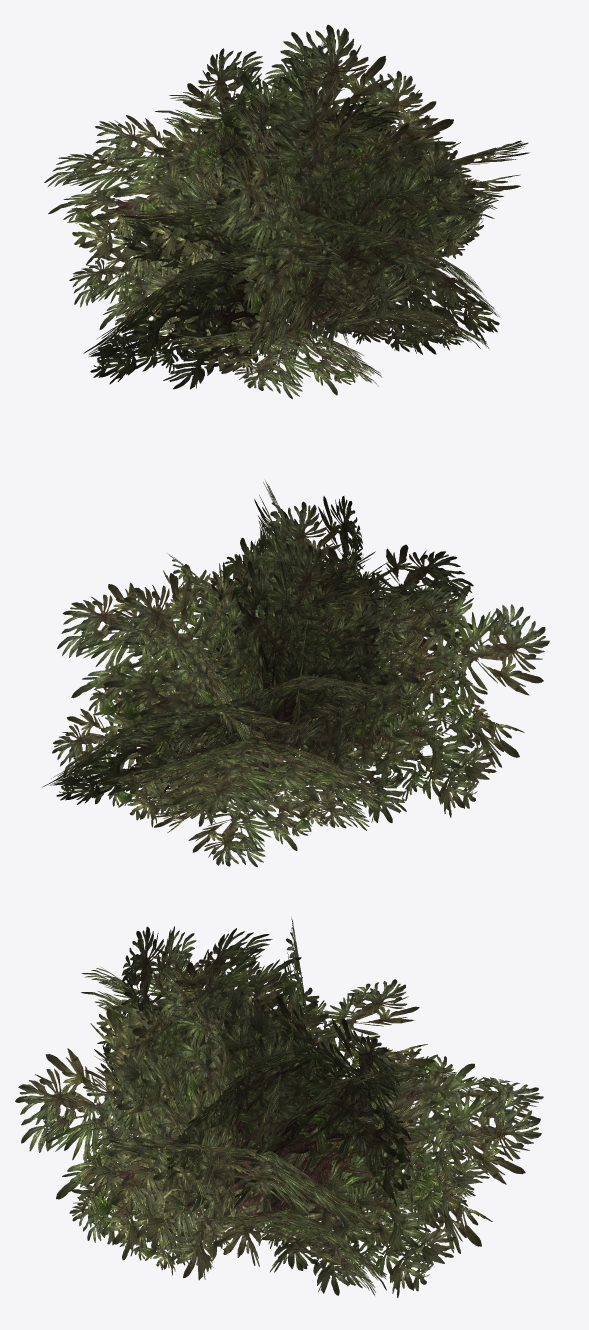
Rendered from Bush_05.fbx.
The picture shows the model from 3 angles, top to bottom: view 1: azimuth 30°, elevation 25°; view 2: azimuth 150°, elevation 25°; view 3: azimuth 270°, elevation 25°; orthographic projection. The views are drawn at different scales.
Visible parts, largest first — view 1: Bush_04; view 2: Bush_04; view 3: Bush_04.
Boxes of the visible parts, x1,y1,x2,y2 form: Bush_04: (44,24,529,399); Bush_04: (42,480,549,867); Bush_04: (15,917,543,1297).
Bounding box in the file's own units: 367 × 258 × 364.
